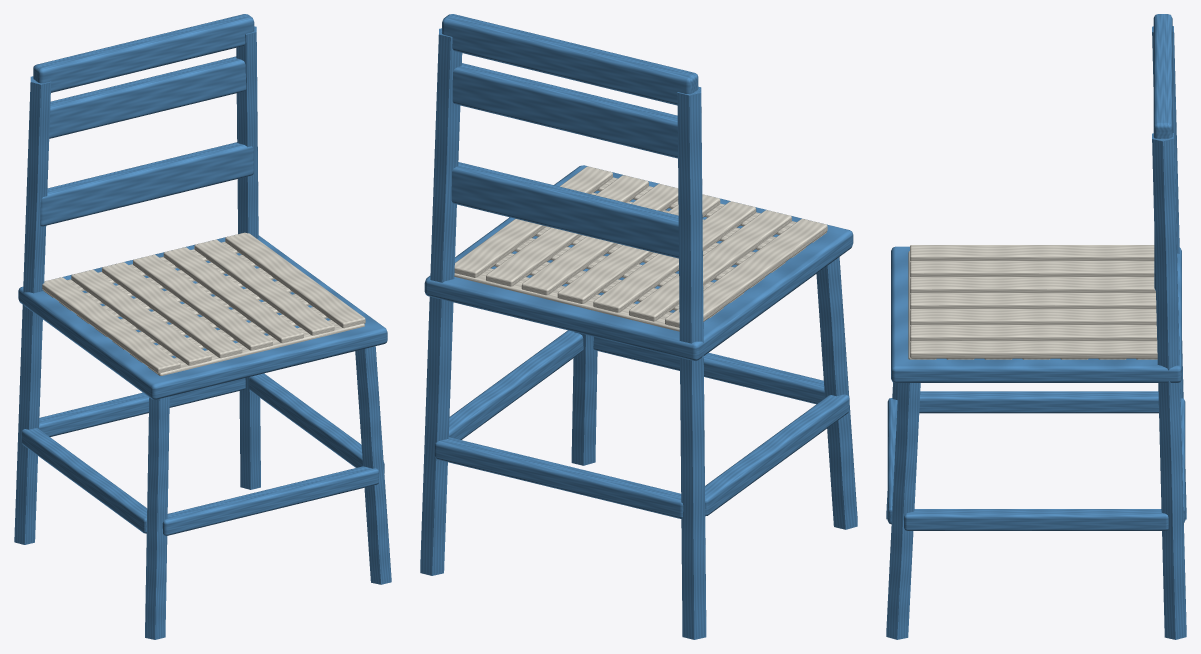
The model's file is greek-island-village-and-harbour-rush-seat-chair-7d6da87f__37086.glb.
3 views of the same model, side by side, from view 1: azimuth 30°, elevation 25°; view 2: azimuth 150°, elevation 25°; view 3: azimuth 270°, elevation 25° (orthographic). The views are drawn at different scales.
Visible parts, largest first — view 1: rush-seat-chair; view 2: rush-seat-chair; view 3: rush-seat-chair.
Part boxes in pixels (bbox=[...]): rush-seat-chair: bbox=[14, 14, 391, 639]; rush-seat-chair: bbox=[420, 14, 857, 639]; rush-seat-chair: bbox=[886, 14, 1186, 639].
Size of the model in its own units: 0.48 by 0.8858 by 0.4746.
Materials: 2 (2 with a texture image).
